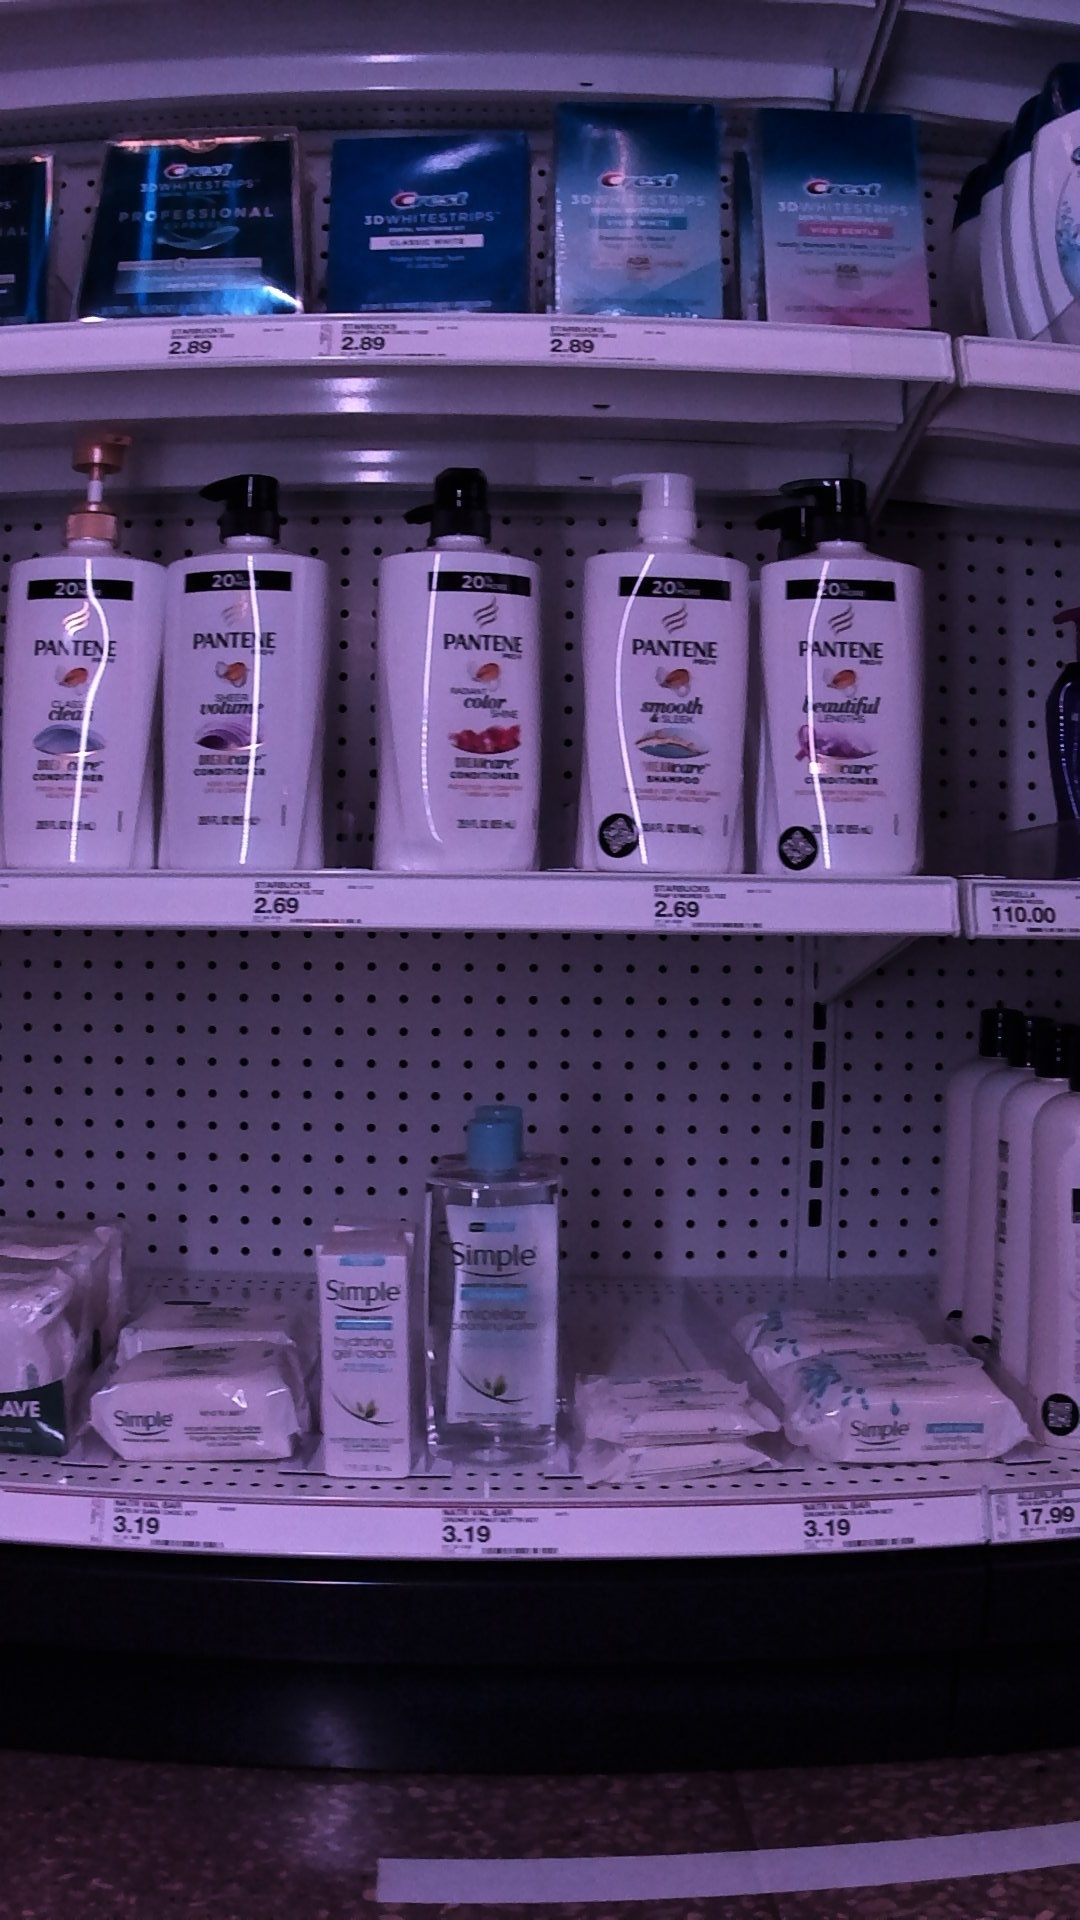ptag: (100, 1482, 264, 1555), (320, 302, 460, 371), (429, 1495, 564, 1560), (535, 309, 669, 373), (644, 880, 785, 938), (789, 1502, 926, 1560), (244, 873, 375, 934), (964, 880, 1080, 935), (158, 320, 273, 369)
